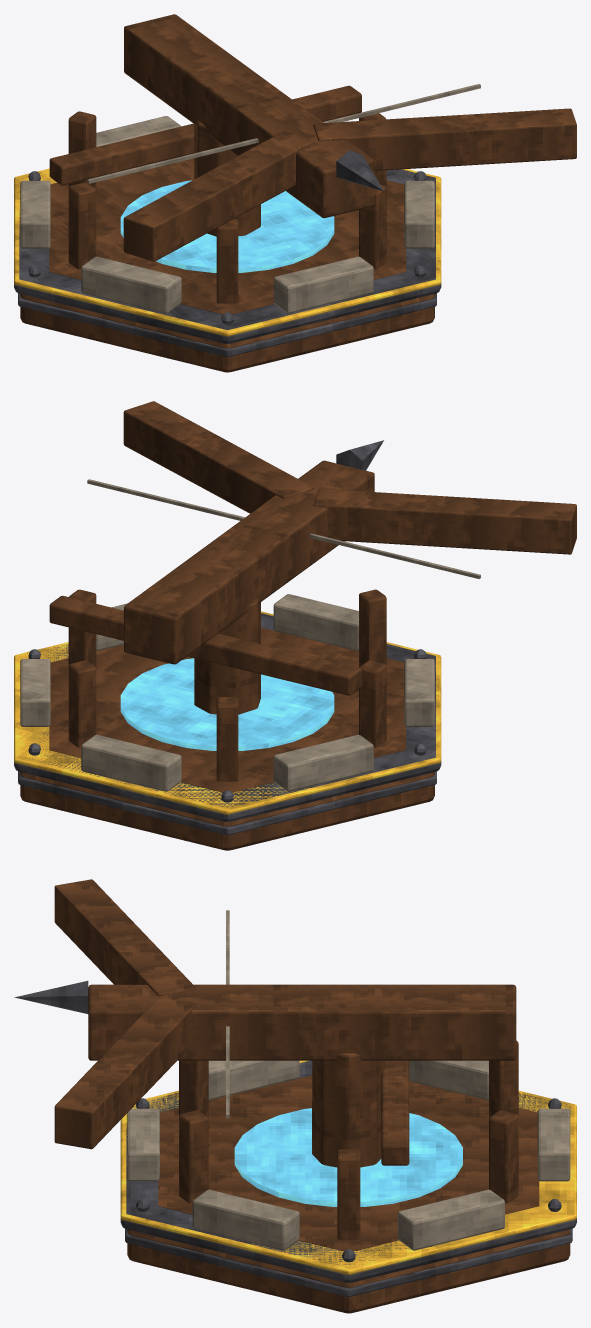
The model's file is top_hexplank.gltf.
3 renders of one model, top to bottom at view 1: azimuth 30°, elevation 25°; view 2: azimuth 150°, elevation 25°; view 3: azimuth 270°, elevation 25°, orthographic. The views are drawn at different scales.
Parts seen in each view (by area): view 1: Crown_wood, Tier3_stone_lite, Crown_iron, Tier4_rune, Tier4_gold, Tier2_iron, Crown_stone_lite; view 2: Crown_wood, Tier3_stone_lite, Tier4_rune, Crown_iron, Tier4_gold, Tier2_iron, Crown_stone_lite; view 3: Crown_wood, Tier3_stone_lite, Tier4_rune, Crown_iron, Tier4_gold, Tier2_iron, Crown_stone_lite.
Boxes of the visible parts, x1,y1,x2,y2 form: Crown_wood: (20, 14, 576, 372); Tier3_stone_lite: (20, 116, 434, 313); Crown_iron: (14, 150, 441, 343); Tier4_rune: (120, 180, 334, 272); Tier4_gold: (14, 168, 441, 336); Tier2_iron: (18, 171, 436, 356); Crown_stone_lite: (87, 84, 480, 183); Crown_wood: (20, 401, 576, 850); Tier3_stone_lite: (20, 594, 434, 791); Tier4_rune: (120, 658, 334, 750); Crown_iron: (14, 440, 441, 822); Tier4_gold: (14, 611, 441, 814); Tier2_iron: (18, 649, 436, 835); Crown_stone_lite: (87, 479, 480, 578); Crown_wood: (54, 879, 570, 1313); Tier3_stone_lite: (127, 1060, 570, 1250); Tier4_rune: (234, 1108, 462, 1206); Crown_iron: (14, 980, 576, 1282); Tier4_gold: (120, 1060, 576, 1274); Tier2_iron: (125, 1098, 572, 1296); Crown_stone_lite: (226, 910, 229, 1118).
Bounding box in the file's own units: 1.19 × 0.54 × 1.21.
5 materials, 5 textured.
